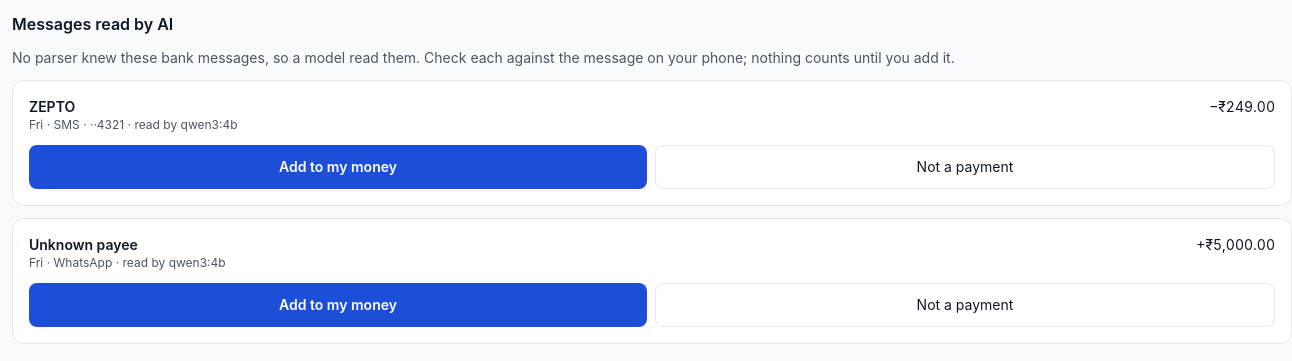
Test: Review → messages read by AI (AOS-705) › adding one confirms it, says so and refreshes the totals
The image size is (1292, 361).
Click the button "Add to my money" below "ZEPTO": [338, 167] box [29,145,647,189]
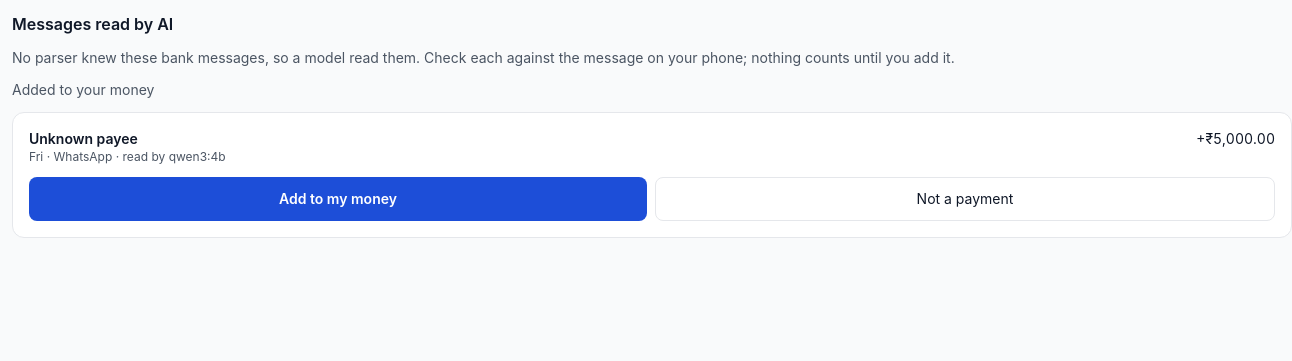
Result: the message reads "Added to your money" at [12,81,154,98]
